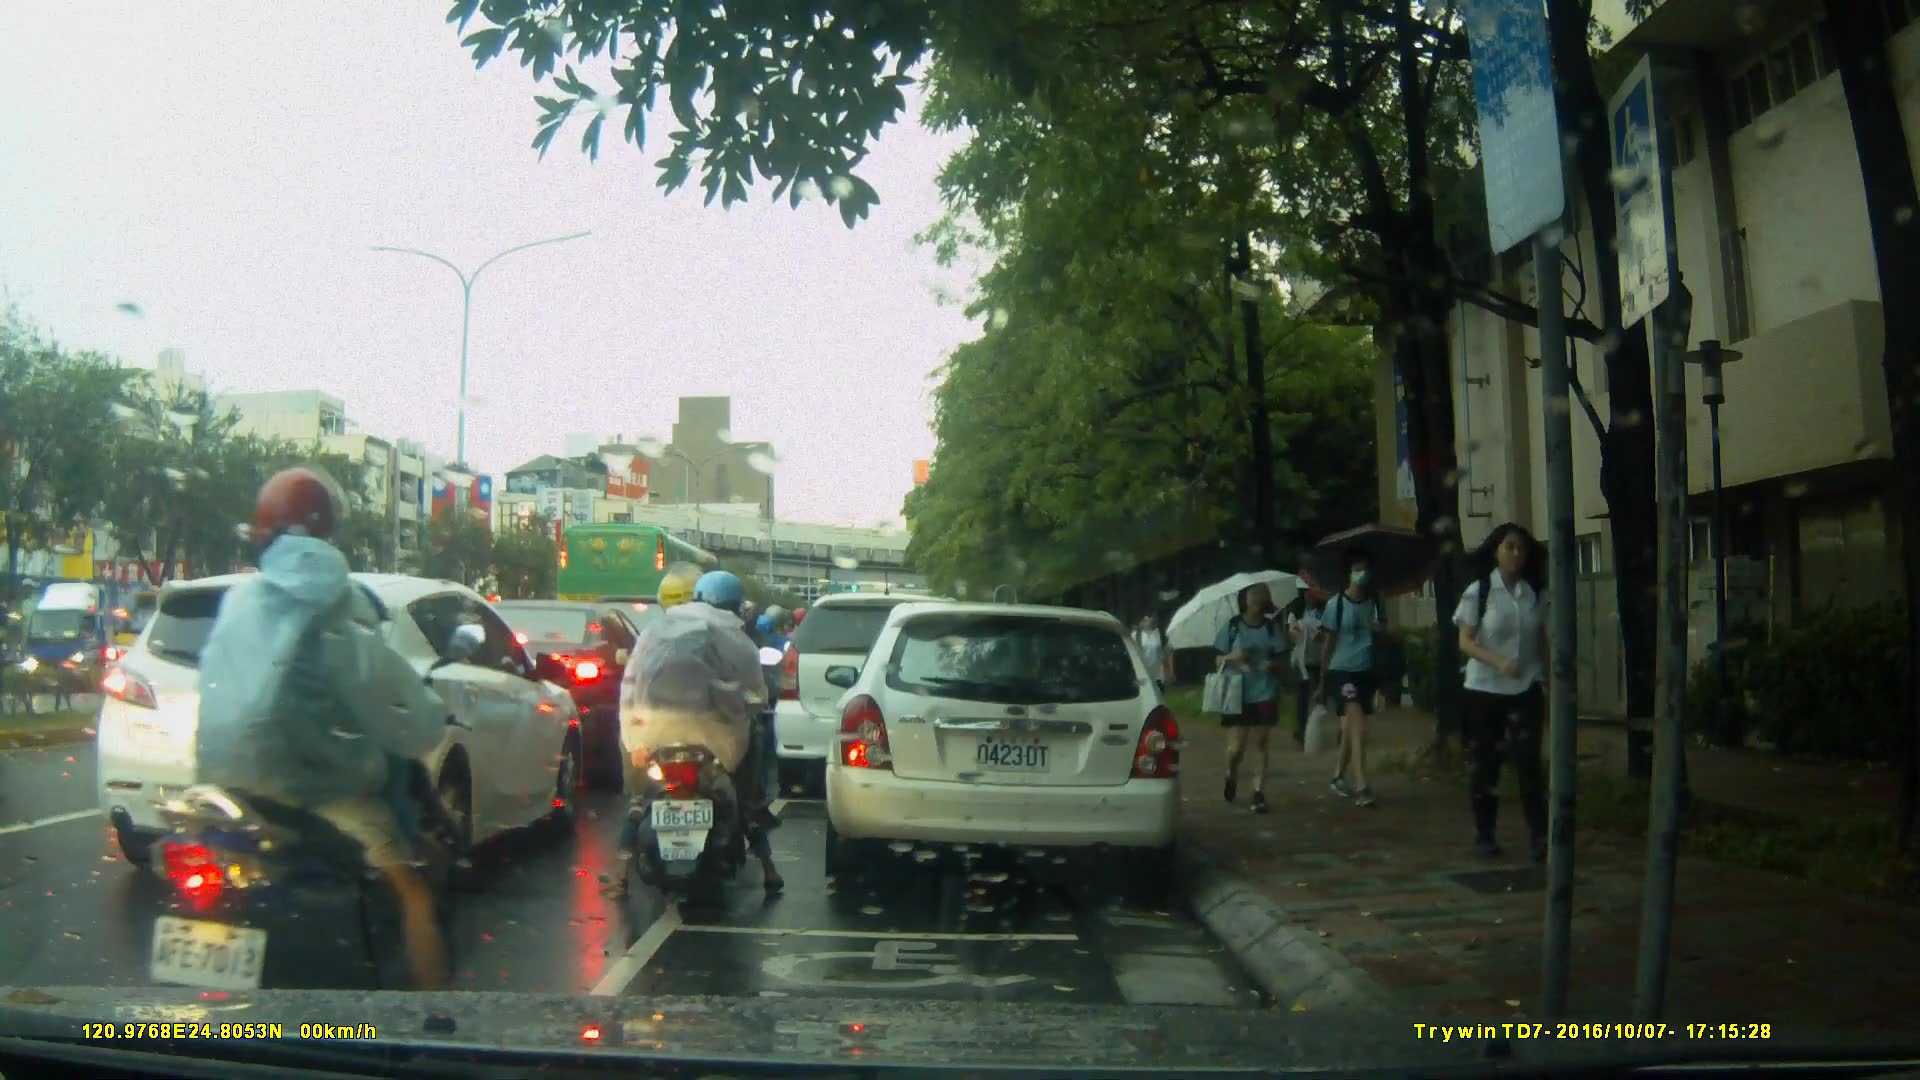pedestrian: (1443, 515, 1567, 872), (1304, 545, 1401, 813), (1205, 572, 1292, 821), (1131, 602, 1173, 745)
rider: (118, 466, 491, 1016), (595, 565, 781, 911), (654, 584, 761, 821)
vehicle: (93, 569, 587, 883), (822, 604, 1186, 882), (774, 595, 995, 802), (554, 519, 739, 666), (20, 576, 199, 697)
